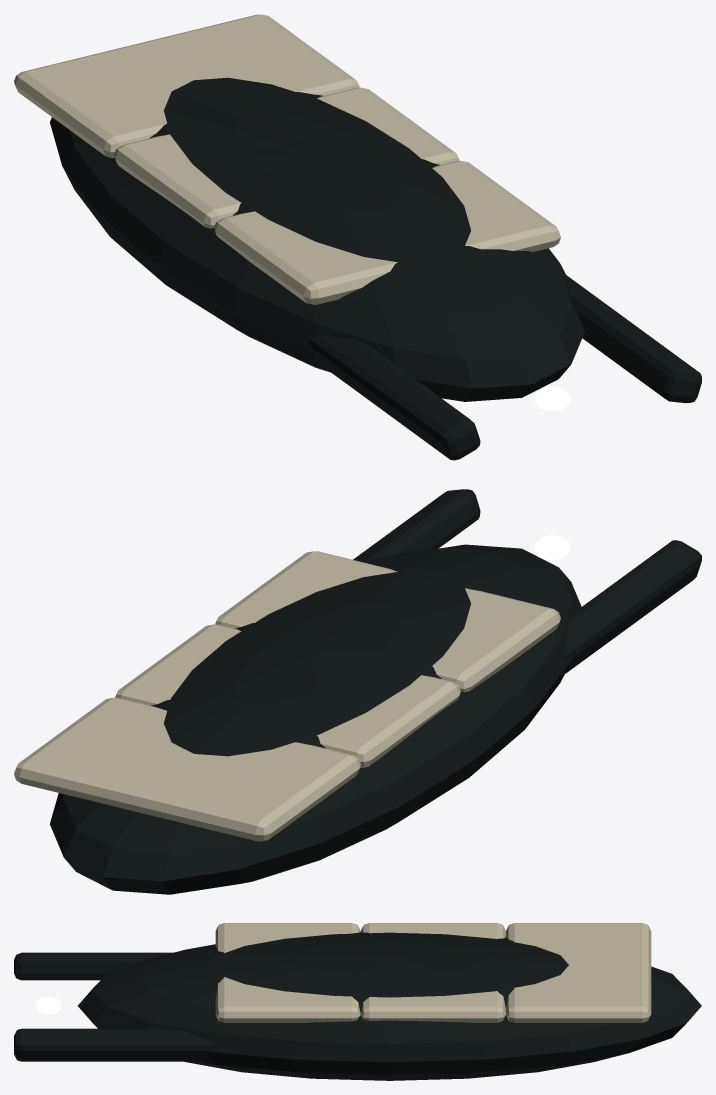
The picture shows the model from 3 angles, top to bottom: view 1: azimuth 30°, elevation 25°; view 2: azimuth 150°, elevation 25°; view 3: azimuth 270°, elevation 25°; orthographic projection. The views are drawn at different scales.
Visible parts, largest first — view 1: RIMWARD_HULL, RIMWARD_ENGINE_GLOW; view 2: RIMWARD_HULL, RIMWARD_ENGINE_GLOW; view 3: RIMWARD_HULL, RIMWARD_ENGINE_GLOW.
Boxes of the visible parts, x1,y1,x2,y2 form: RIMWARD_HULL: [14, 14, 701, 460]; RIMWARD_ENGINE_GLOW: [534, 386, 570, 411]; RIMWARD_HULL: [14, 489, 701, 894]; RIMWARD_ENGINE_GLOW: [534, 535, 570, 559]; RIMWARD_HULL: [14, 923, 701, 1080]; RIMWARD_ENGINE_GLOW: [35, 997, 61, 1014].
Size of the model in its own units: 2.65 by 1.09 by 6.82.
